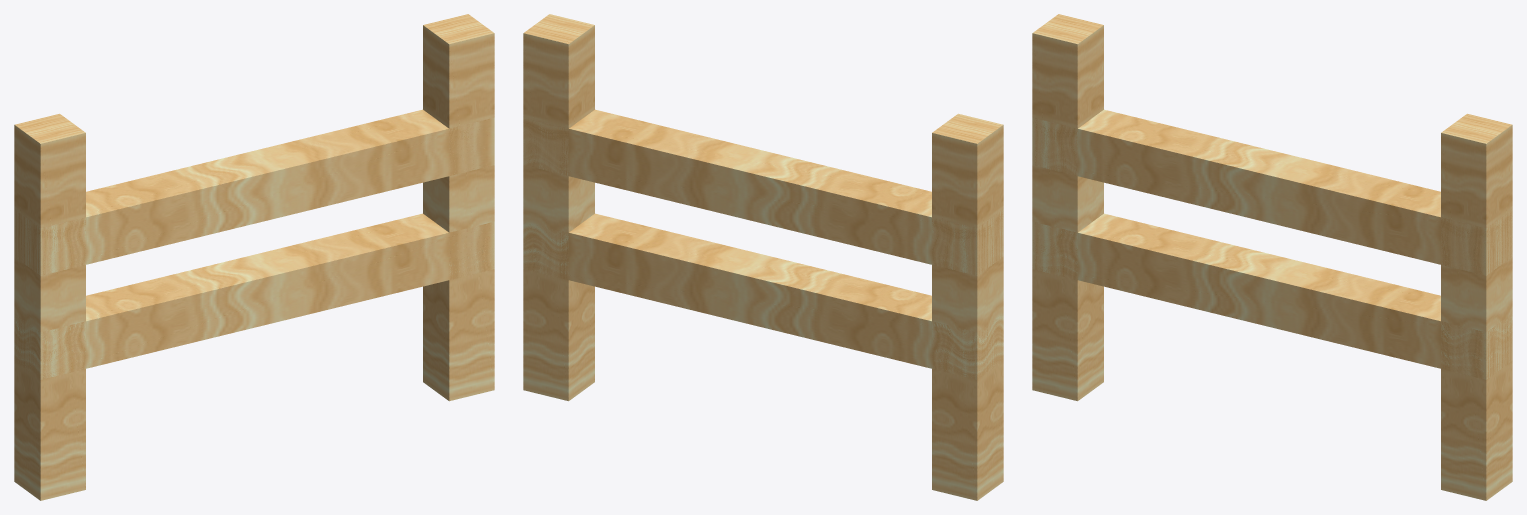
The model's file is Fence.FBX.
3 views of the same model, side by side, from view 1: azimuth 30°, elevation 25°; view 2: azimuth 150°, elevation 25°; view 3: azimuth 330°, elevation 25° (orthographic).
Visible parts, largest first — view 1: FenceRow001, FenceRow, FenceColumn, FenceColumn001; view 2: FenceRow001, FenceRow, FenceColumn, FenceColumn001; view 3: FenceRow, FenceRow001, FenceColumn001, FenceColumn.
Boxes of the visible parts, x1,y1,x2,y2 form: FenceRow001: [14, 109, 494, 275]; FenceRow: [14, 213, 494, 379]; FenceColumn: [14, 113, 85, 500]; FenceColumn001: [423, 14, 494, 401]; FenceRow001: [523, 109, 1003, 275]; FenceRow: [523, 213, 1003, 379]; FenceColumn: [932, 113, 1003, 500]; FenceColumn001: [523, 14, 594, 401]; FenceRow: [1032, 213, 1512, 379]; FenceRow001: [1032, 109, 1512, 275]; FenceColumn001: [1441, 113, 1512, 500]; FenceColumn: [1032, 14, 1103, 401].
Bounding box in the file's own units: 30 × 22.55 × 3.
